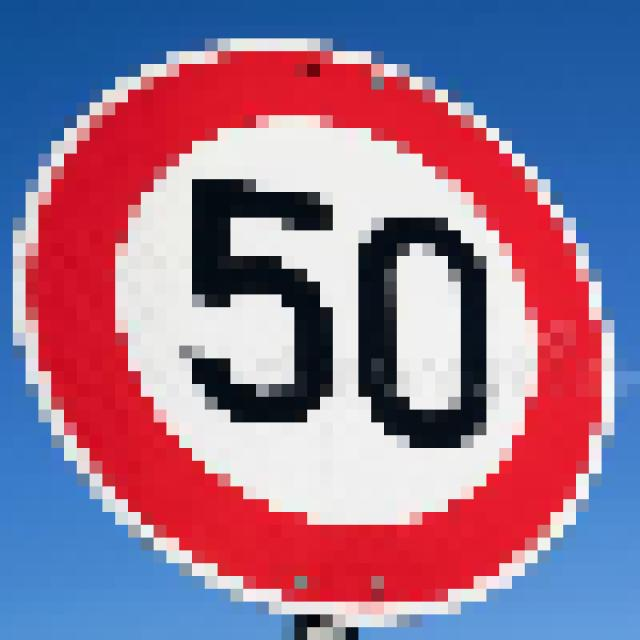Limite-50: (8, 32, 623, 623)
